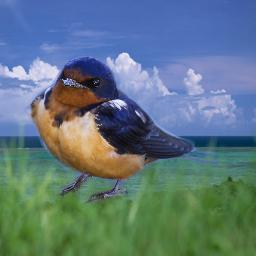Swallow: (24, 54, 219, 204)
